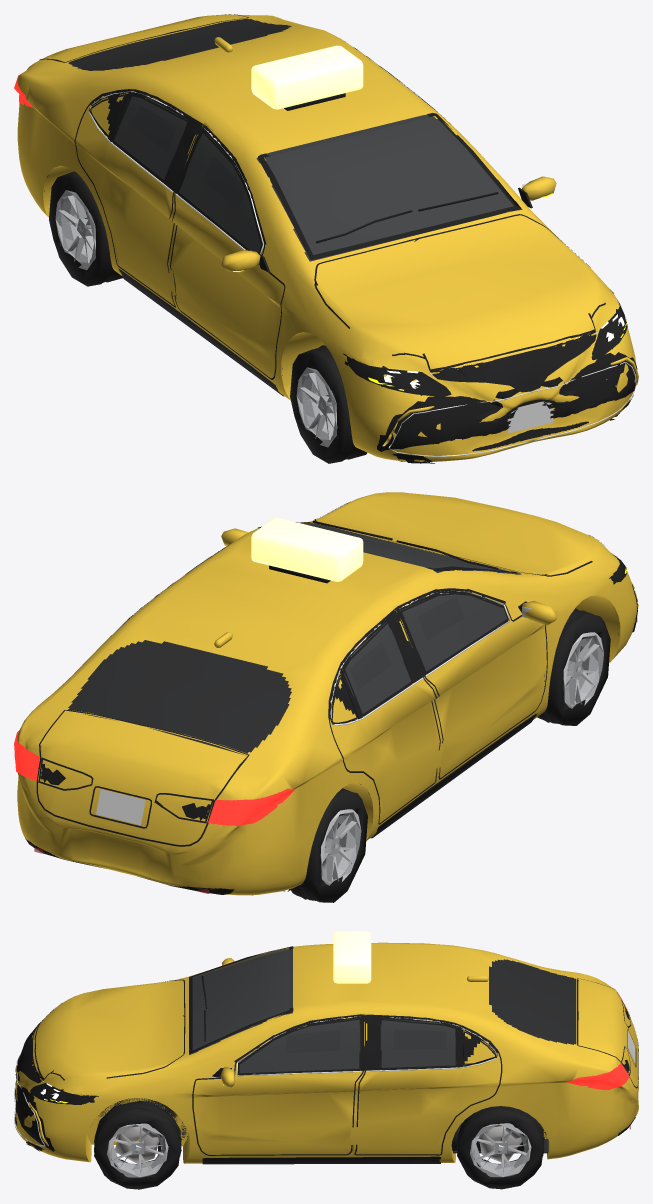
The model's file is taxi-lod1.glb.
3 renders of one model, top to bottom at view 1: azimuth 30°, elevation 25°; view 2: azimuth 150°, elevation 25°; view 3: azimuth 270°, elevation 25°, orthographic. The views are drawn at different scales.
Visible parts, largest first — view 1: Body, HoodSkin, Body_Lining, Body_Trim, Panel_FR, Panel_RR, TaxiSign, Window_FR, Window_RR, Wheel_FR_Tyre, Wheel_RR_Tyre, Panel_RR_Trim (+9 smaller); view 2: Body, TrunkSkin, HoodSkin, Panel_FR, Body_Lining, Panel_RR, TaxiSign, Body_Trim, Window_FR, Window_RR, Wheel_FR_Tyre, Wheel_RR_Tyre (+9 smaller); view 3: Body, Body_Lining, Panel_FL, HoodSkin, Panel_RL, Body_Trim, Window_FL, Wheel_FL_Tyre, TrunkSkin, Wheel_RL_Tyre, Window_RL, Panel_RL_Trim (+11 smaller).
Boxes of the visible parts, x1=… form: Body: x1=17, y1=14, x2=636, y2=461; HoodSkin: x1=316, y1=216, x2=612, y2=373; Body_Lining: x1=74, y1=19, x2=521, y2=298; Body_Trim: x1=14, y1=47, x2=637, y2=463; Panel_FR: x1=172, y1=129, x2=284, y2=378; Panel_RR: x1=76, y1=91, x2=195, y2=305; TaxiSign: x1=251, y1=45, x2=363, y2=109; Window_FR: x1=179, y1=130, x2=263, y2=253; Window_RR: x1=114, y1=96, x2=187, y2=179; Wheel_FR_Tyre: x1=290, y1=345, x2=367, y2=463; Wheel_RR_Tyre: x1=49, y1=171, x2=122, y2=286; Panel_RR_Trim: x1=74, y1=89, x2=201, y2=307; Body: x1=14, y1=519, x2=636, y2=895; TrunkSkin: x1=38, y1=711, x2=246, y2=845; HoodSkin: x1=316, y1=492, x2=612, y2=575; Panel_FR: x1=400, y1=590, x2=546, y2=777; Body_Lining: x1=41, y1=524, x2=544, y2=755; Panel_RR: x1=330, y1=622, x2=439, y2=823; TaxiSign: x1=251, y1=518, x2=363, y2=581; Body_Trim: x1=14, y1=522, x2=637, y2=894; Window_FR: x1=399, y1=593, x2=506, y2=672; Window_RR: x1=342, y1=622, x2=411, y2=713; Wheel_FR_Tyre: x1=537, y1=608, x2=610, y2=725; Wheel_RR_Tyre: x1=291, y1=788, x2=367, y2=902; Body: x1=15, y1=942, x2=638, y2=1163; Body_Lining: x1=189, y1=950, x2=578, y2=1072; Panel_FL: x1=195, y1=1016, x2=360, y2=1154; HoodSkin: x1=33, y1=980, x2=182, y2=1087; Panel_RL: x1=357, y1=1017, x2=500, y2=1154; Body_Trim: x1=15, y1=946, x2=635, y2=1164; Window_FL: x1=239, y1=1017, x2=360, y2=1074; Wheel_FL_Tyre: x1=94, y1=1101, x2=181, y2=1189; TrunkSkin: x1=578, y1=979, x2=638, y2=1086; Wheel_RL_Tyre: x1=457, y1=1106, x2=544, y2=1189; Window_RL: x1=380, y1=1019, x2=456, y2=1068; Panel_RL_Trim: x1=354, y1=1014, x2=502, y2=1155.
Bounding box in the file's own units: 2.29 × 1.7 × 4.93.
